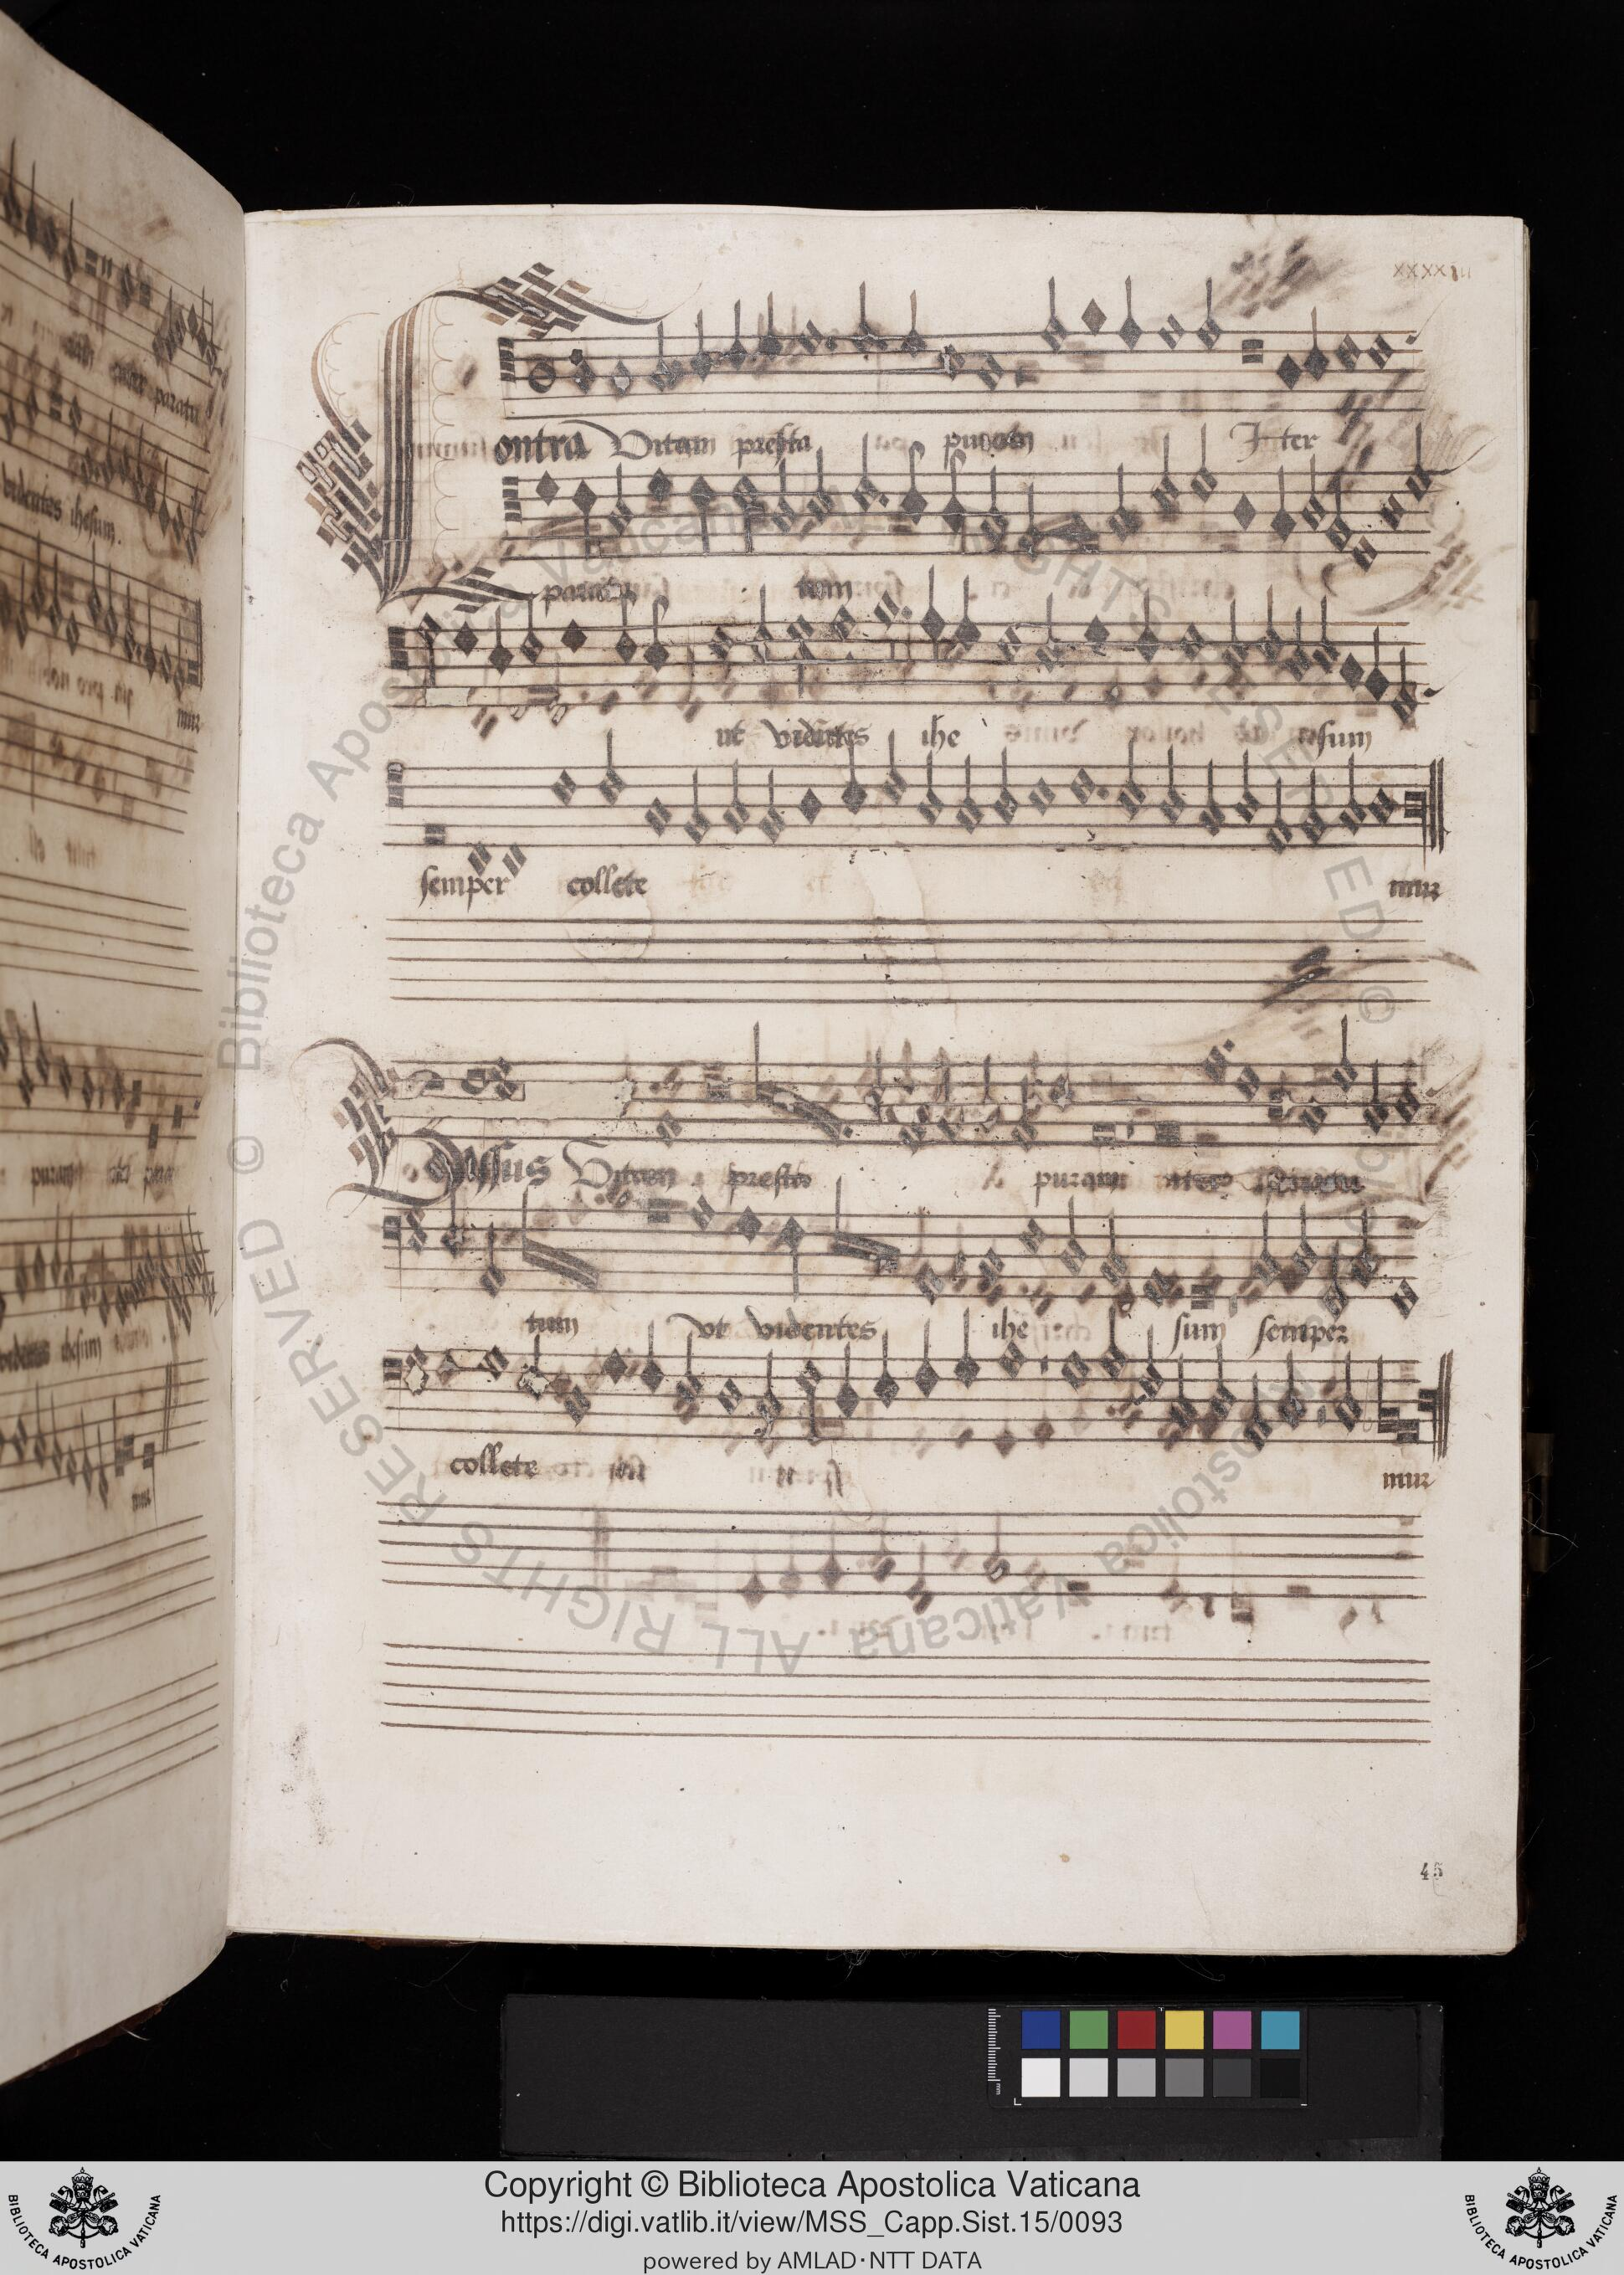Pmin: (520, 344, 561, 409)
breve_5: (1230, 323, 1272, 378)
c clef_5: (496, 321, 524, 402)
colored semibreve_2: (1072, 278, 1114, 346)
colored semibreve_7: (1269, 334, 1306, 401)
custos_4: (1394, 302, 1431, 357)
minim_3: (845, 271, 889, 409), (1188, 258, 1227, 360), (1033, 267, 1072, 367)
minim_7: (642, 300, 678, 408)
point: (812, 323, 845, 360), (703, 346, 733, 376), (661, 351, 685, 376)
semibreve rest: (1009, 332, 1030, 418)
semibreve_3: (1149, 299, 1190, 364), (796, 306, 826, 364)
semibreve_5: (1327, 314, 1367, 385), (1359, 314, 1397, 385)
semibreve_6: (930, 329, 970, 392)
semibreve_7: (555, 336, 599, 409), (599, 339, 642, 413), (972, 337, 1007, 404)
semiminim_3: (1113, 267, 1146, 367)
semiminim_4: (896, 278, 928, 374), (756, 283, 786, 376)
semiminim_6: (1301, 295, 1332, 394), (689, 307, 714, 386)
semiminim_7: (722, 290, 750, 379)
